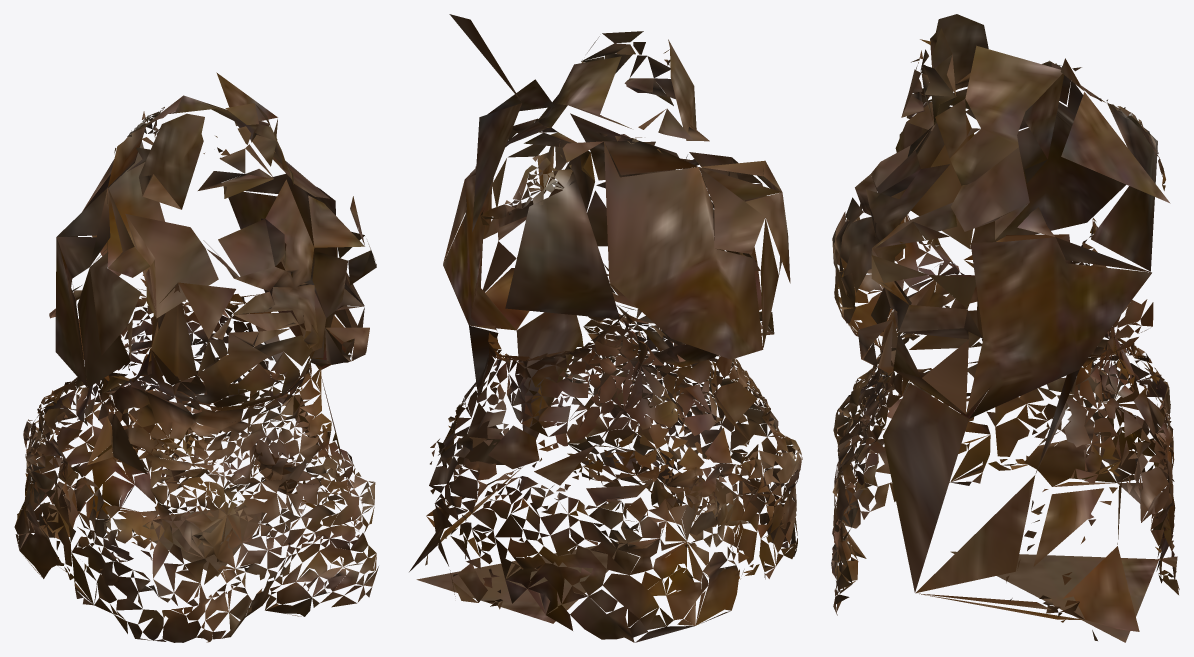
Rendered from far.glb.
The picture shows the model from 3 angles, left to right: view 1: azimuth 30°, elevation 25°; view 2: azimuth 150°, elevation 25°; view 3: azimuth 270°, elevation 25°; orthographic projection. The views are drawn at different scales.
Parts seen in each view (by area): view 1: statue-026; view 2: statue-026; view 3: statue-026.
Part boxes in pixels (bbox=[...]): statue-026: bbox=[14, 72, 378, 642]; statue-026: bbox=[409, 14, 802, 642]; statue-026: bbox=[831, 14, 1179, 642].
Size of the model in its own units: 0.5622 by 0.9903 by 0.5465.
1 material, 1 textured.
